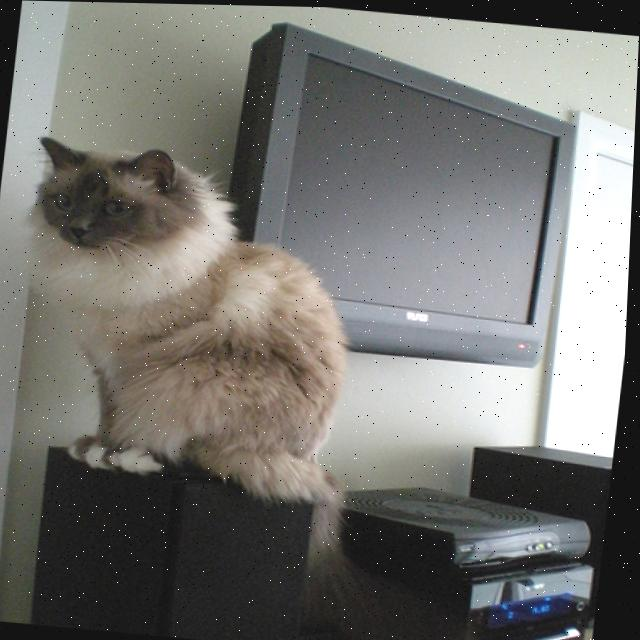Birman: (0, 129, 380, 506)
